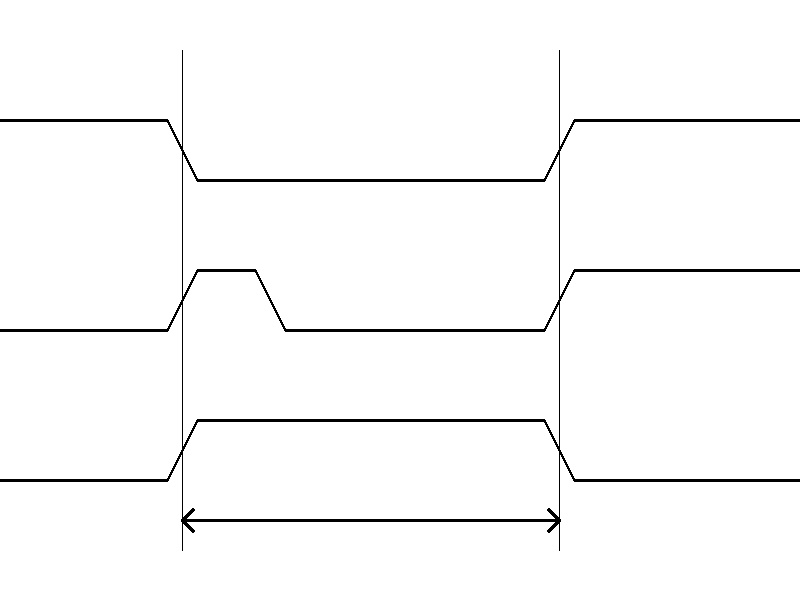double_arrow: (182, 505, 559, 535)
